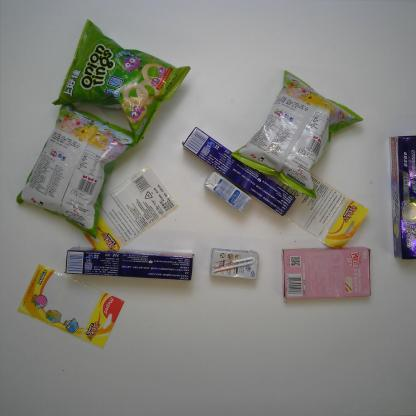Dessert: (278, 243, 375, 301)
Milk: (201, 168, 254, 216), (205, 244, 265, 284)
Personal Hygiene: (178, 126, 298, 220), (61, 244, 197, 284), (385, 131, 415, 261)
Puffed Food: (48, 16, 193, 148), (230, 66, 367, 201), (14, 101, 147, 240)
Stationery: (15, 262, 127, 352), (81, 162, 182, 254), (275, 165, 373, 251)
